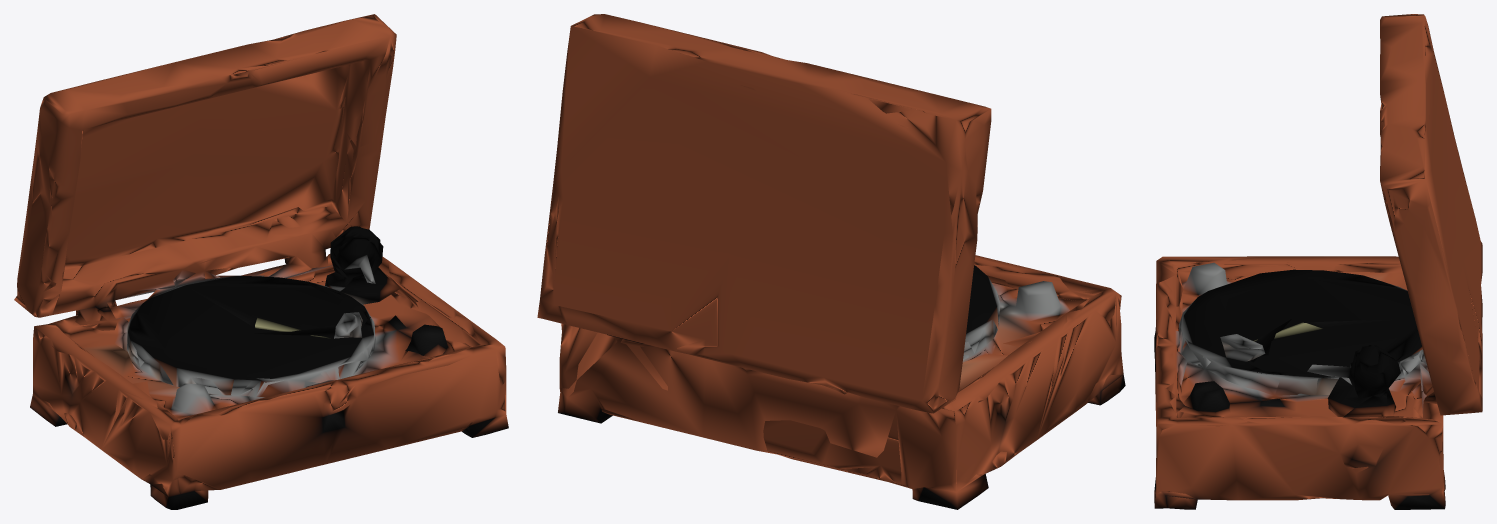
Rendered from gen3d-record-player-lod0.glb.
The picture shows the model from 3 angles, left to right: view 1: azimuth 30°, elevation 25°; view 2: azimuth 150°, elevation 25°; view 3: azimuth 270°, elevation 25°; orthographic projection. The views are drawn at different scales.
Visible parts, largest first — view 1: part_0; view 2: part_0; view 3: part_0.
Part boxes in pixels (left/top/right/bottom): part_0: left=14, top=14, right=508, bottom=509; part_0: left=537, top=14, right=1125, bottom=509; part_0: left=1154, top=14, right=1482, bottom=509.
Bounding box in the file's own units: 1.11 × 0.9999 × 0.9016.
